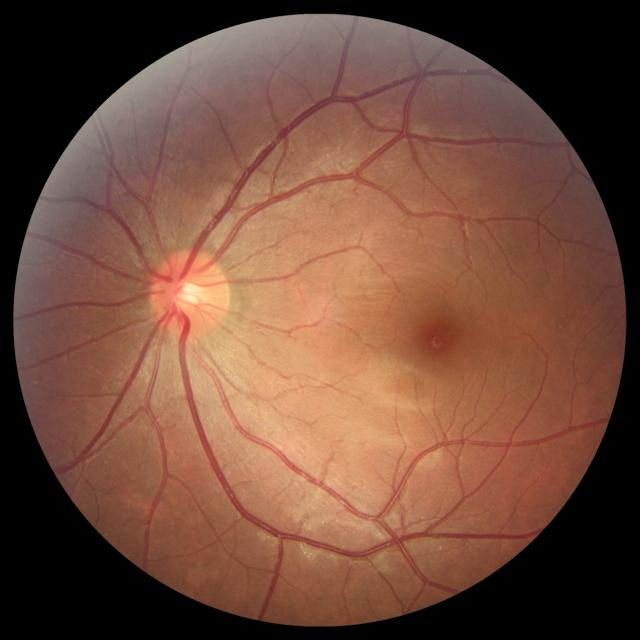OC: (168, 275, 205, 314)
OD: (150, 248, 230, 336)
